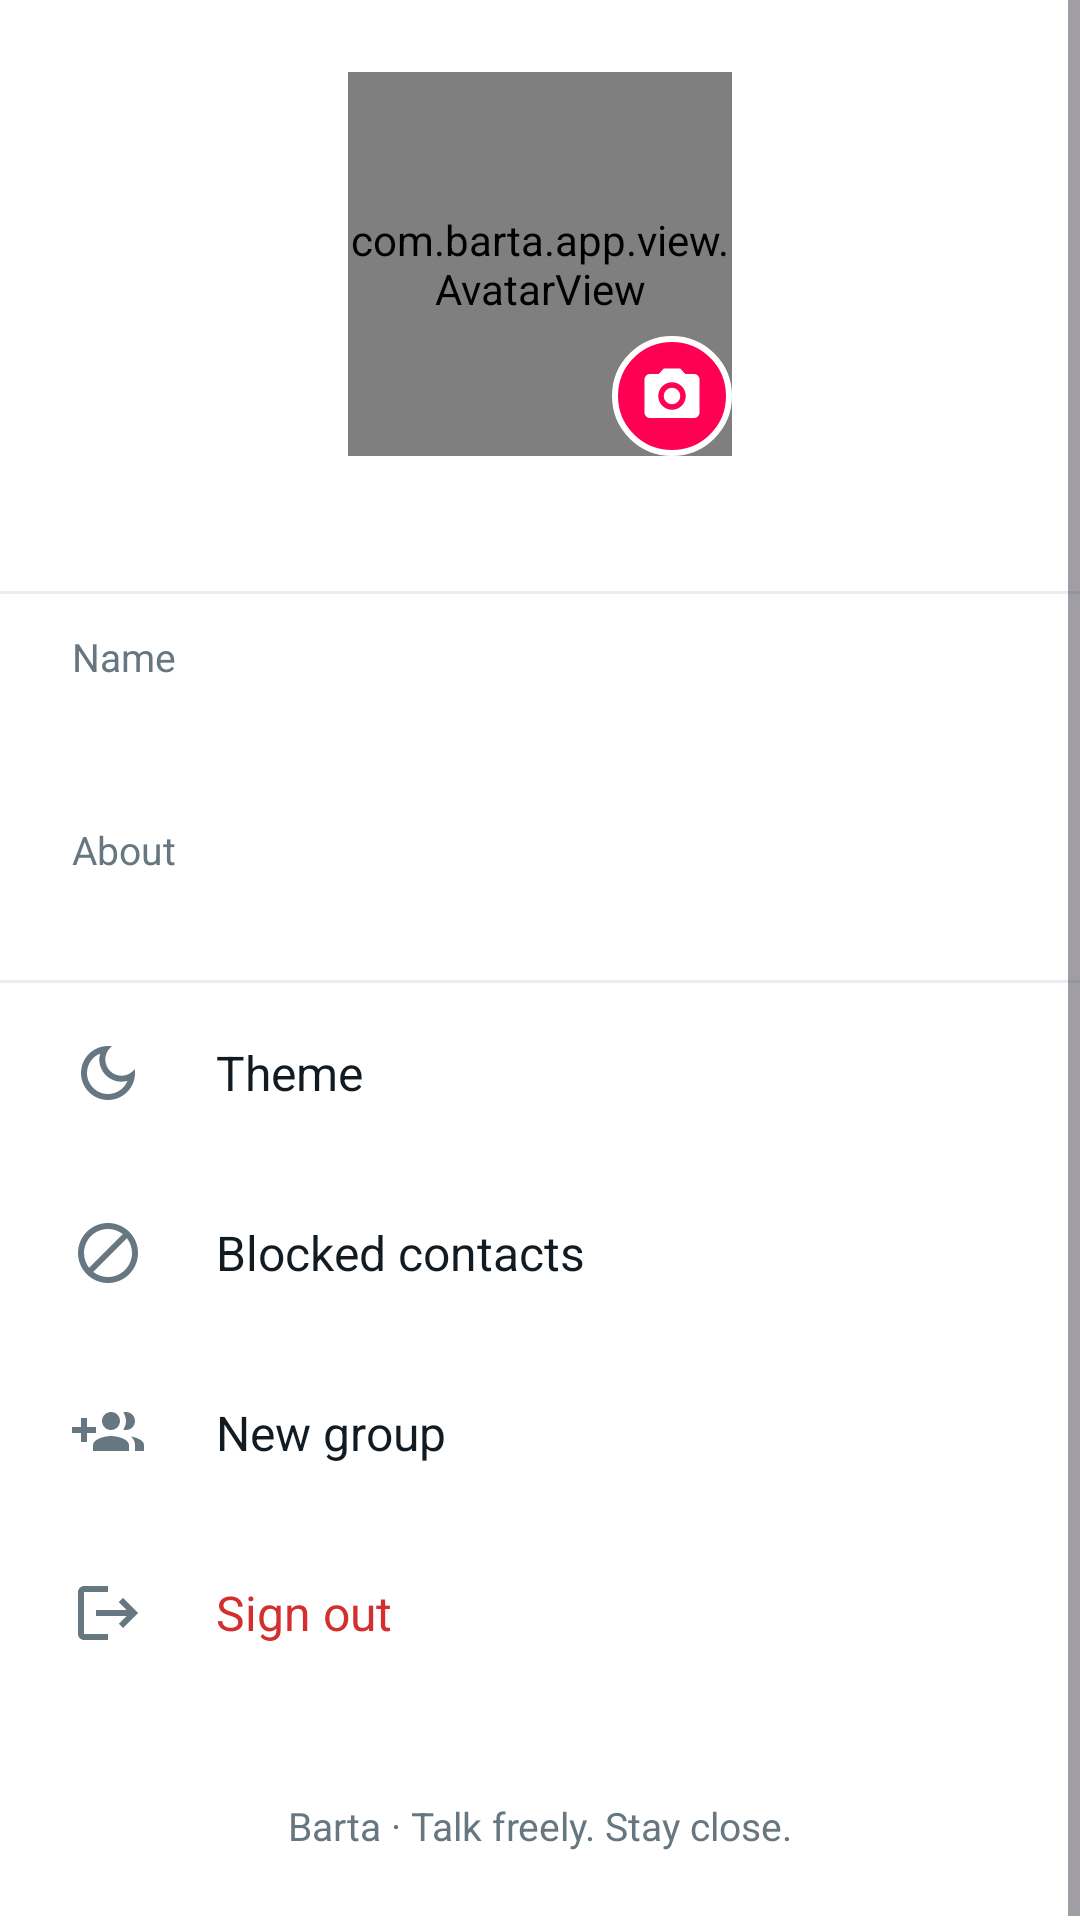

Point at icon controls on the screen. Image size 1080 x 1920, points as (x=x, y=y).
Camera: (x=672, y=396)
